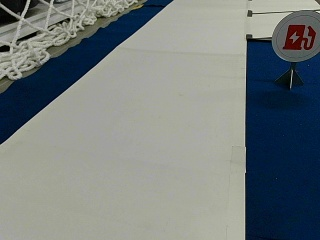battery: (272, 10, 319, 61)
